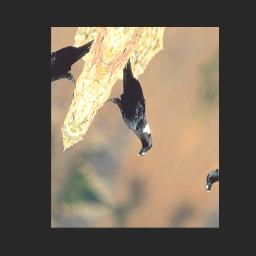Crow: (88, 55, 182, 161)
